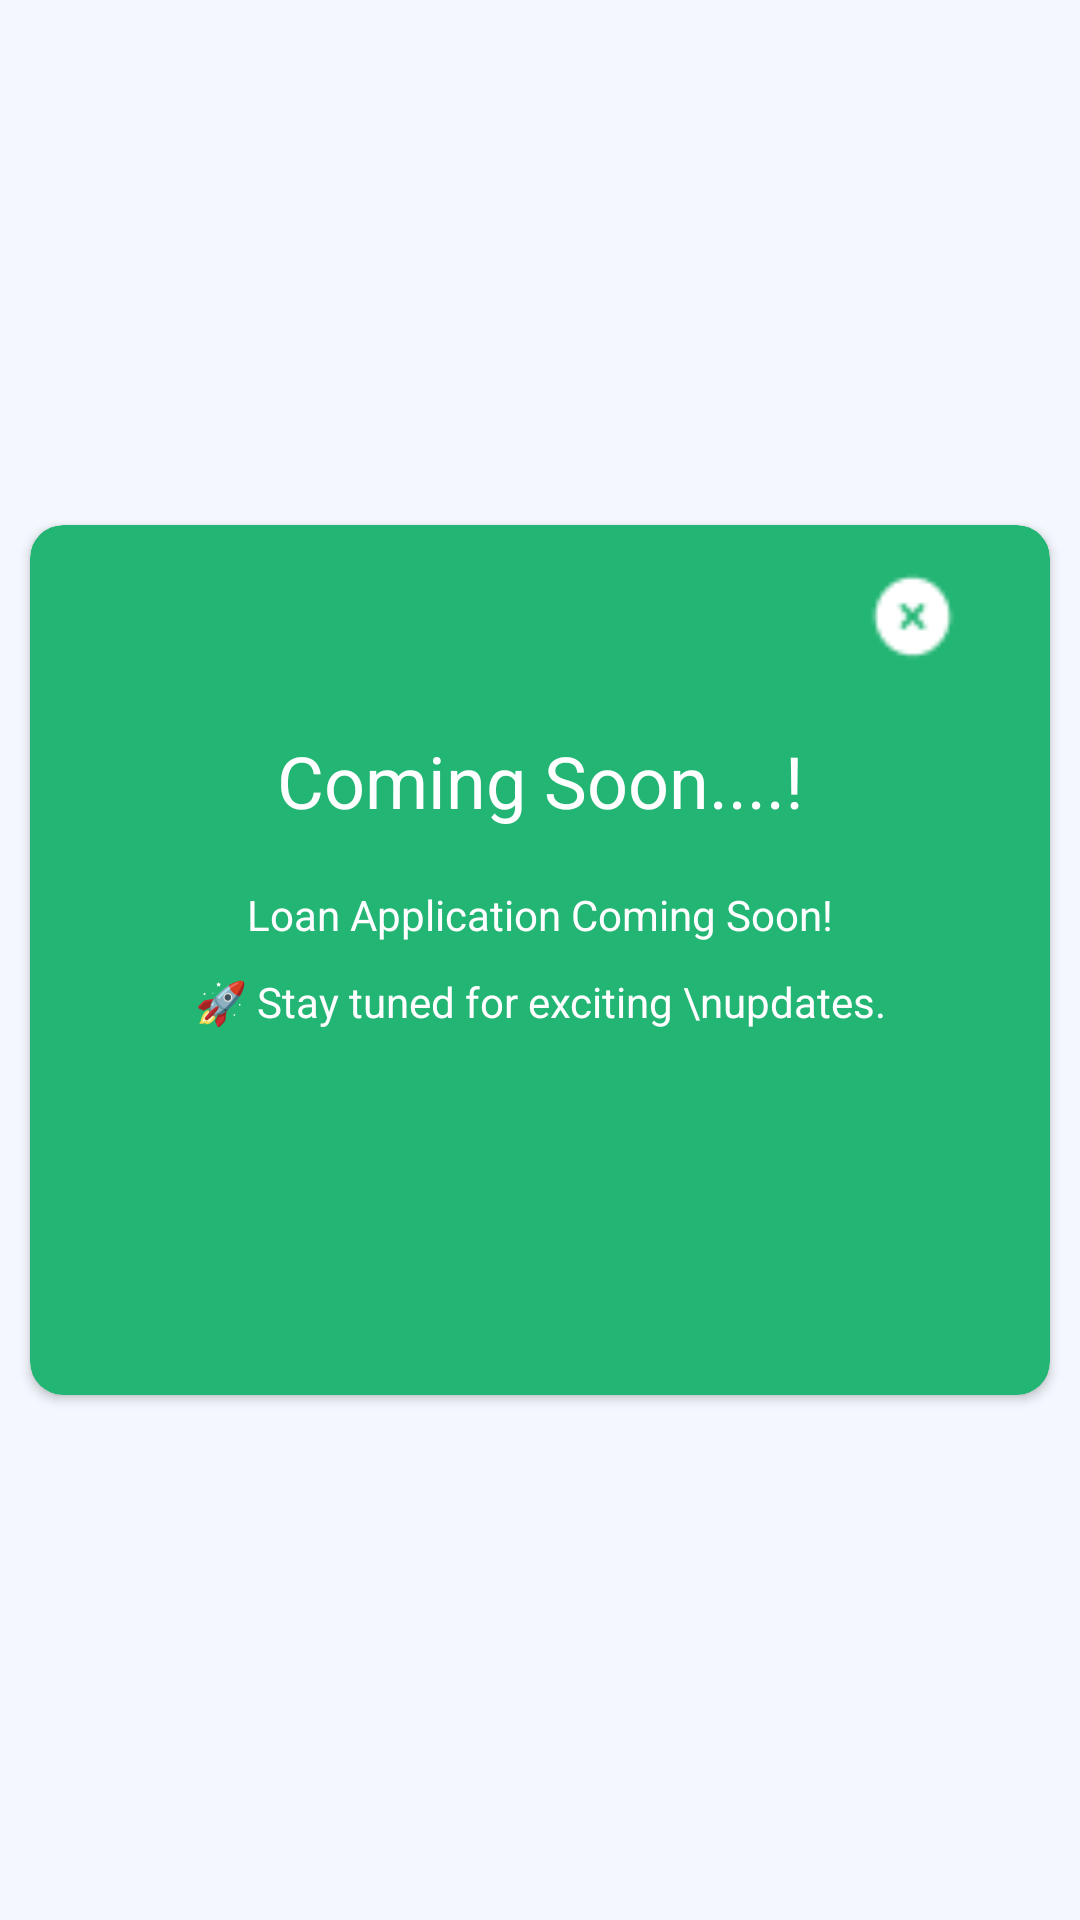

Where icons sit on this 1080×1920 app screen, as (x1,y1,x2,y2):
close circle: (872,576,953,657)
